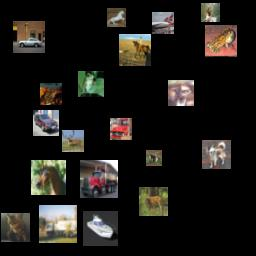airplane: (152, 12, 174, 34)
automobile: (13, 21, 45, 53), (33, 110, 59, 136)
bird: (168, 80, 194, 106)
cat: (1, 213, 30, 242)
deer: (139, 187, 168, 216), (62, 130, 84, 152), (201, 3, 220, 22), (146, 150, 162, 166)
dog: (202, 140, 231, 169)
frog: (205, 25, 237, 57), (78, 71, 104, 97), (40, 83, 62, 105)
ship: (83, 211, 118, 246)
truck: (39, 205, 77, 243), (80, 160, 118, 198), (110, 118, 132, 140)
